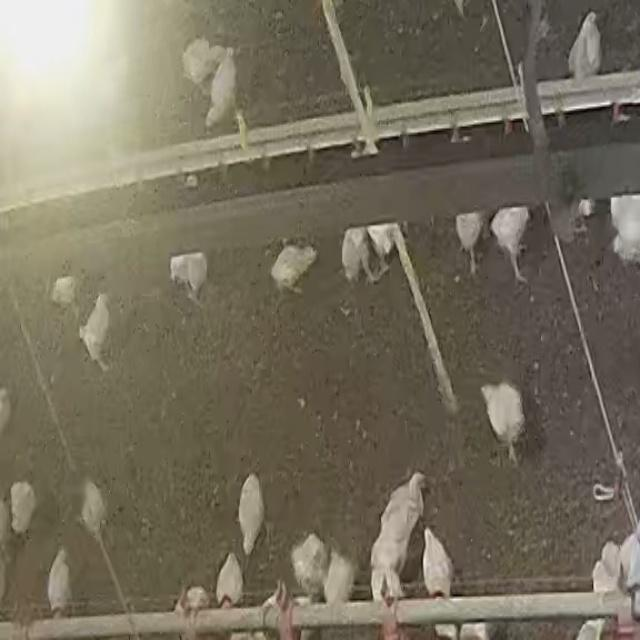chicken: (478, 380, 528, 466), (490, 207, 532, 283), (233, 473, 268, 552), (206, 49, 238, 130), (270, 243, 318, 295), (567, 10, 602, 80), (291, 533, 327, 598), (422, 527, 454, 598), (364, 224, 405, 278), (454, 211, 488, 276), (169, 252, 209, 307), (82, 289, 110, 367), (609, 194, 640, 264), (181, 36, 224, 86), (341, 228, 377, 284), (47, 547, 73, 617), (322, 550, 353, 606), (78, 478, 105, 539), (215, 554, 244, 608), (9, 480, 36, 536), (596, 540, 622, 592)
